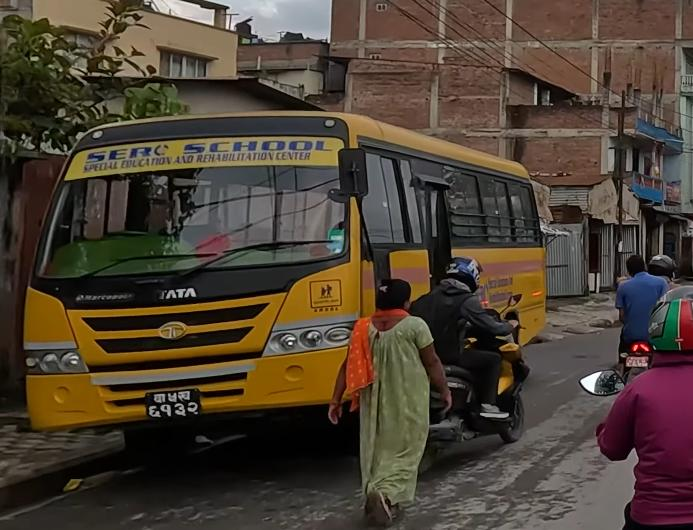school_bus: (15, 102, 553, 458)
